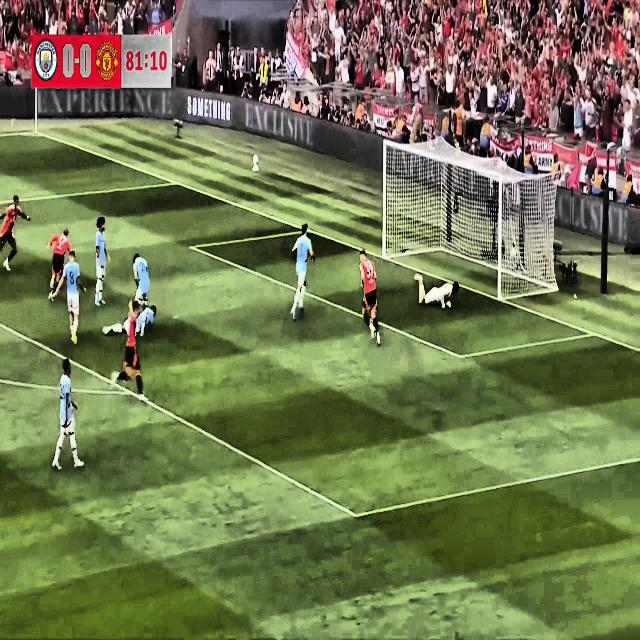ball: (507, 245, 524, 280)
goal_keeper: (410, 268, 462, 327)
players: (46, 348, 87, 474), (48, 247, 91, 349), (108, 294, 146, 397), (284, 217, 320, 323), (354, 243, 390, 347), (0, 181, 33, 278), (98, 299, 162, 348), (84, 210, 112, 310), (46, 215, 74, 312), (127, 245, 151, 337)
